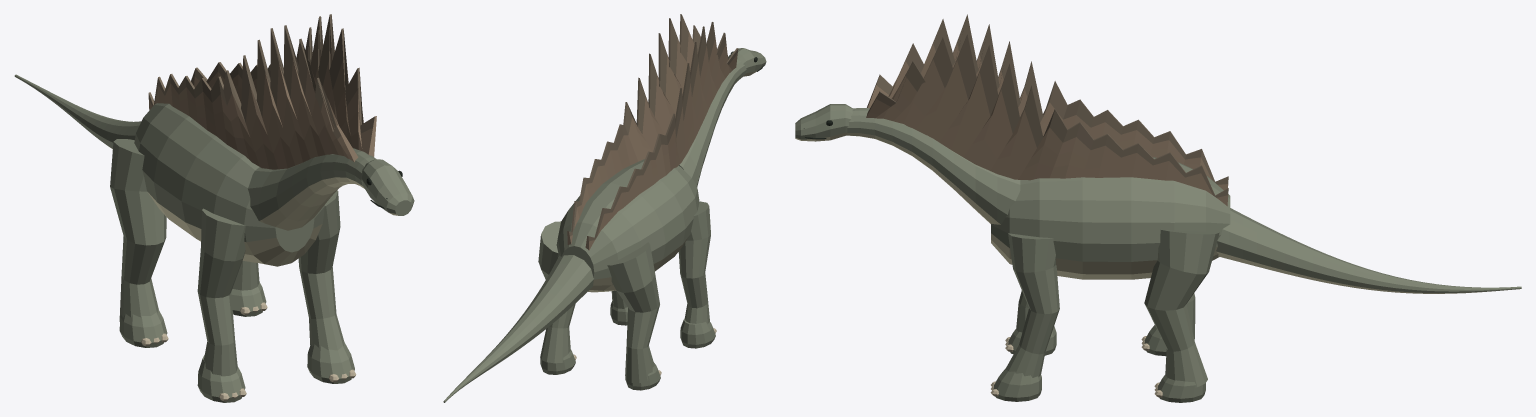
3 views of the same model, side by side, from view 1: azimuth 30°, elevation 25°; view 2: azimuth 150°, elevation 25°; view 3: azimuth 270°, elevation 25° (orthographic). The views are drawn at different scales.
Visible parts, largest first — view 1: paired-soft-crest-left, torso, hind-limb-left, neck, fore-limb-left, paired-soft-crest-right, fore-limb-right, head, tapered-tail, fore-foot-right, hind-foot-left, fore-foot-left (+3 smaller); view 2: torso, paired-soft-crest-right, paired-soft-crest-left, tapered-tail, hind-limb-left, fore-limb-left, hind-limb-right, neck, fore-foot-left, head, hind-foot-right, hind-foot-left (+1 smaller); view 3: paired-soft-crest-right, torso, paired-soft-crest-left, tapered-tail, hind-limb-right, neck, fore-limb-right, head, fore-foot-right, hind-foot-right.
Boxes of the visible parts, x1=… form: paired-soft-crest-left: x1=148, y1=25, x2=358, y2=169; torso: x1=134, y1=103, x2=324, y2=266; hind-limb-left: x1=110, y1=139, x2=166, y2=321; neck: x1=248, y1=148, x2=376, y2=230; fore-limb-left: x1=197, y1=208, x2=245, y2=376; paired-soft-crest-right: x1=191, y1=14, x2=376, y2=156; fore-limb-right: x1=298, y1=190, x2=343, y2=350; head: x1=361, y1=159, x2=414, y2=215; tapered-tail: x1=14, y1=74, x2=141, y2=149; fore-foot-right: x1=307, y1=341, x2=354, y2=383; hind-foot-left: x1=119, y1=309, x2=167, y2=347; fore-foot-left: x1=197, y1=355, x2=245, y2=402; torso: x1=556, y1=159, x2=699, y2=292; paired-soft-crest-right: x1=567, y1=14, x2=700, y2=244; paired-soft-crest-left: x1=585, y1=22, x2=738, y2=250; tapered-tail: x1=443, y1=255, x2=593, y2=402; hind-limb-left: x1=607, y1=242, x2=659, y2=383; fore-limb-left: x1=678, y1=201, x2=710, y2=323; hind-limb-right: x1=538, y1=221, x2=575, y2=363; neck: x1=679, y1=59, x2=746, y2=187; fore-foot-left: x1=680, y1=318, x2=715, y2=348; head: x1=728, y1=48, x2=766, y2=76; hind-foot-right: x1=540, y1=350, x2=575, y2=374; hind-foot-left: x1=625, y1=362, x2=660, y2=390; paired-soft-crest-right: x1=866, y1=34, x2=1228, y2=206; torso: x1=991, y1=157, x2=1230, y2=279; paired-soft-crest-left: x1=867, y1=14, x2=1228, y2=190; tapered-tail: x1=1216, y1=208, x2=1521, y2=293; hind-limb-right: x1=1144, y1=229, x2=1219, y2=387; neck: x1=847, y1=108, x2=1020, y2=224; fore-limb-right: x1=1005, y1=233, x2=1059, y2=377; head: x1=795, y1=104, x2=853, y2=141; fore-foot-right: x1=993, y1=368, x2=1041, y2=401; hind-foot-right: x1=1157, y1=375, x2=1205, y2=402.
Size of the model in its own units: 1.89 by 4.73 by 8.95.
